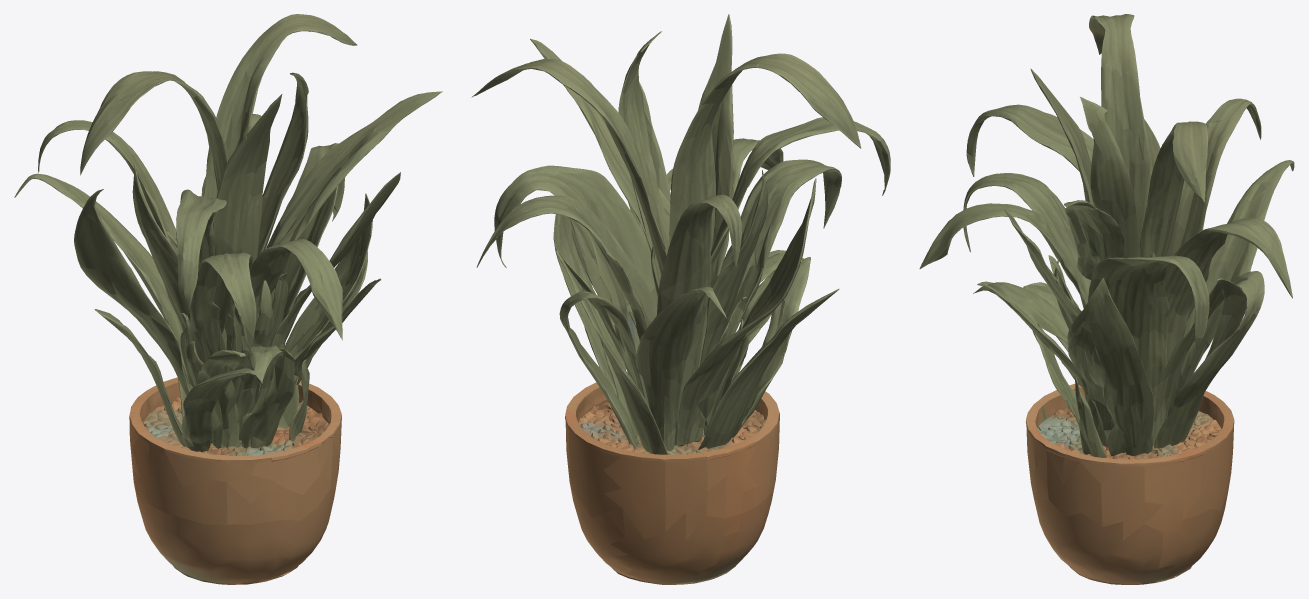
3 renders of one model, left to right at view 1: azimuth 30°, elevation 25°; view 2: azimuth 150°, elevation 25°; view 3: azimuth 270°, elevation 25°, orthographic. The views are drawn at different scales.
Size of the model in its own units: 1.35 by 1.9 by 1.31.
1 material, 1 textured.
